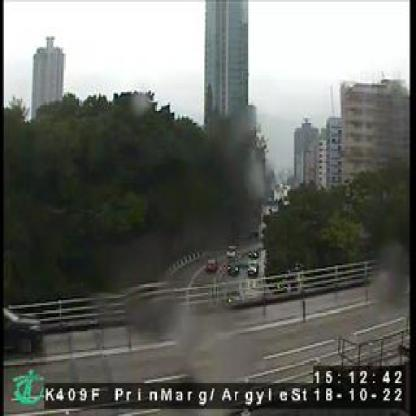Car: (244, 259, 260, 276), (206, 256, 220, 275), (226, 260, 240, 276)
